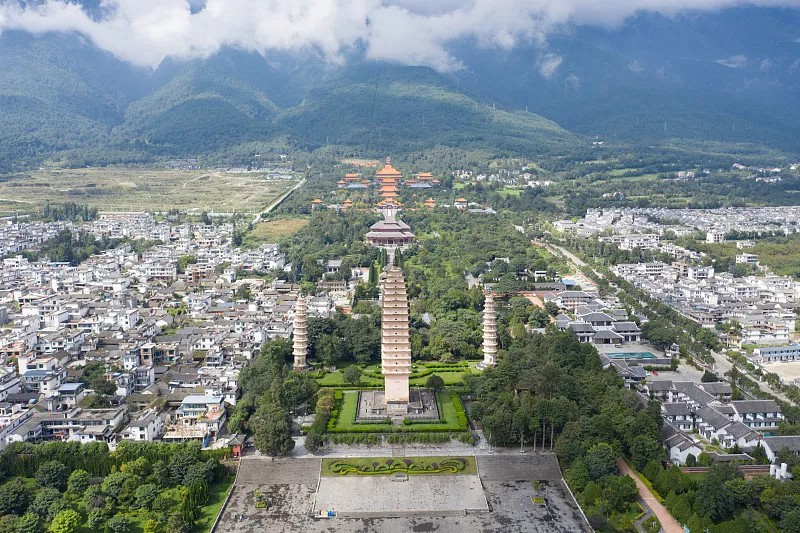ThreePagoda: (381, 257, 412, 404)
